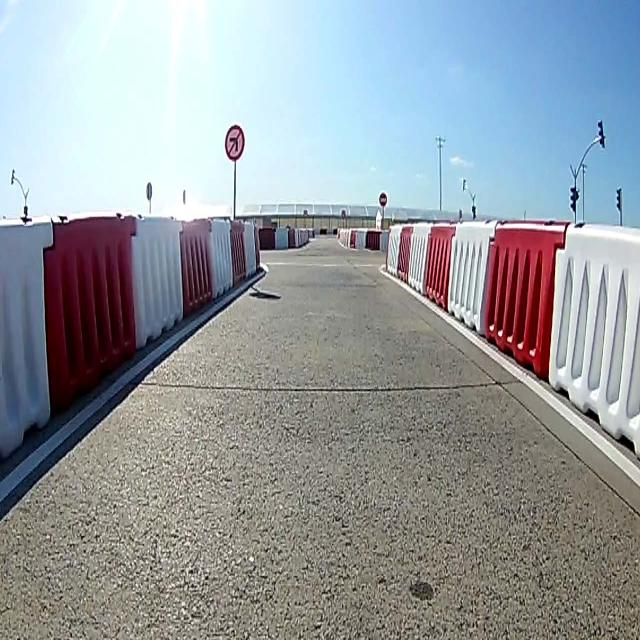girisyok: (378, 192, 388, 207)
soladonulmez: (224, 124, 244, 162)
